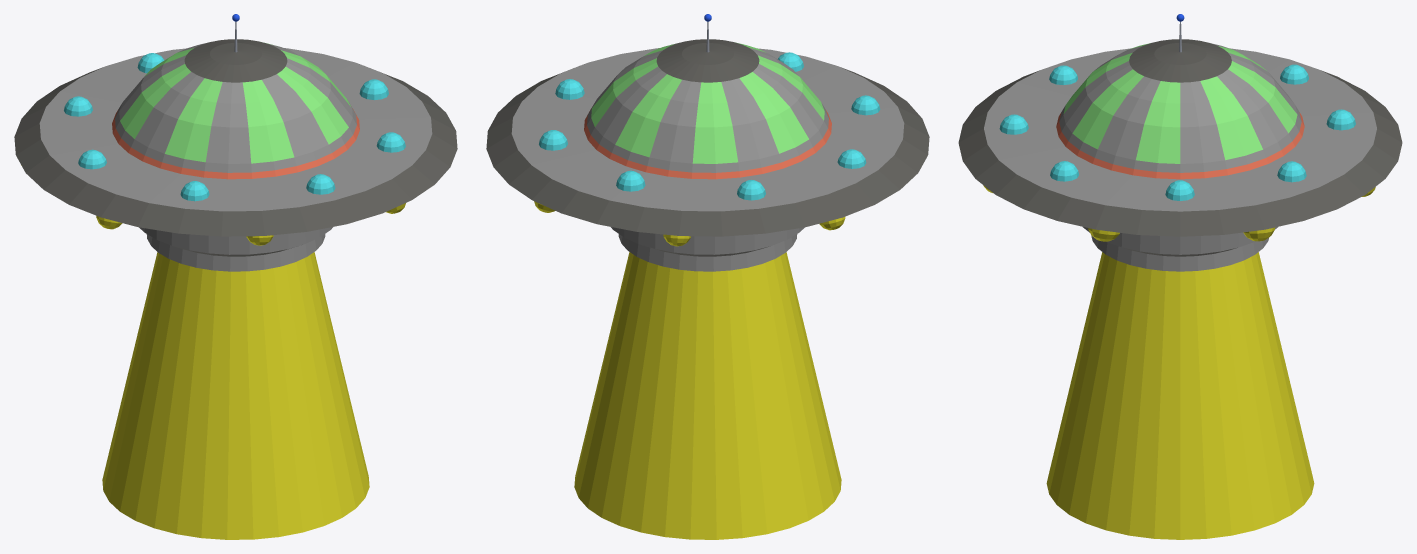
Rendered from ufoson.fbx.
3 renders of one model, left to right at view 1: azimuth 30°, elevation 25°; view 2: azimuth 150°, elevation 25°; view 3: azimuth 270°, elevation 25°, orthographic.
Visible parts, largest first — view 1: isik, Sphere, Sphere.006; view 2: isik, Sphere, Sphere.006; view 3: isik, Sphere, Sphere.006, Sphere.003.
Part boxes in pixels (bbox=[...]): isik: bbox=[102, 252, 369, 539]; Sphere: bbox=[14, 48, 457, 271]; Sphere.006: bbox=[112, 39, 359, 179]; isik: bbox=[574, 252, 841, 539]; Sphere: bbox=[486, 48, 929, 271]; Sphere.006: bbox=[584, 39, 831, 179]; isik: bbox=[1046, 252, 1314, 539]; Sphere: bbox=[958, 48, 1402, 271]; Sphere.006: bbox=[1056, 39, 1304, 179]; Sphere.003: bbox=[1088, 227, 1275, 241].
Bounding box in the file's own units: 352 × 410 × 352.
